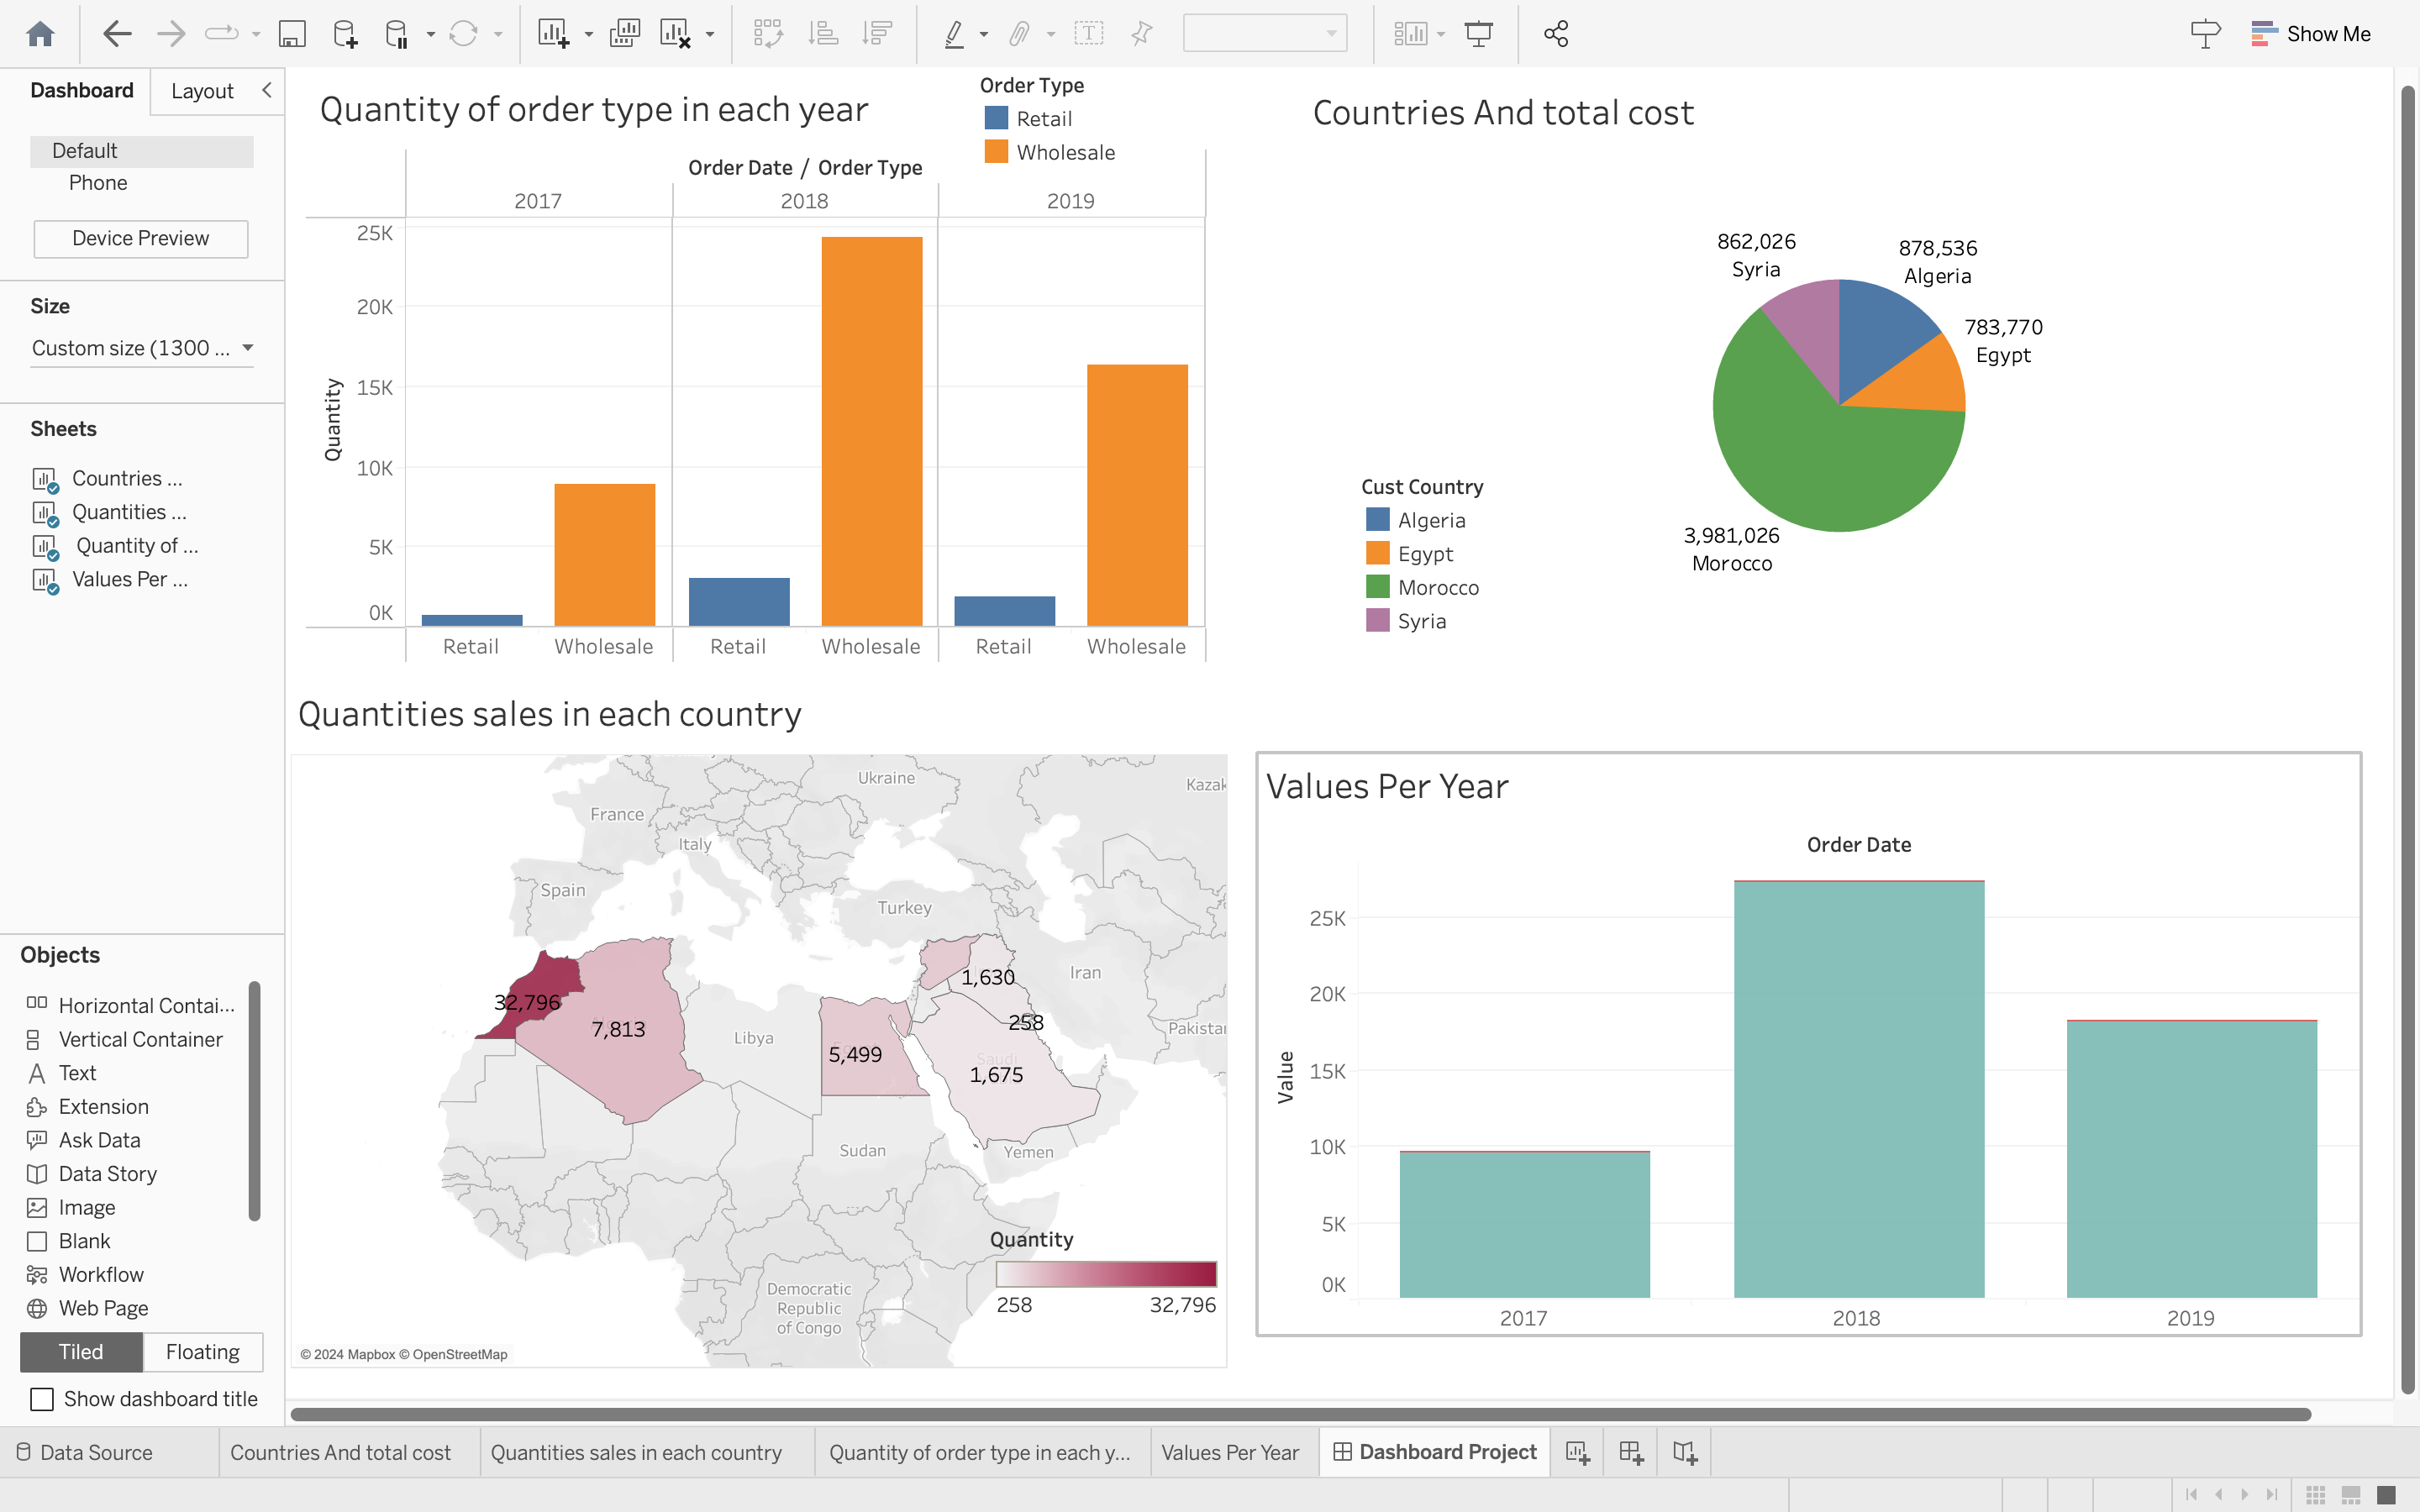

What the dashboard file says about the page in this screenshot:
{"tool":"tableau","page":{"name":"Dashboard Project","canvas":[1300,800],"ordinal":0},"visuals":[{"type":"legend","title":" Quantity of order type in each year  ","param":"[federated.0olghb11hfdxsm1aif1ay1tp6ts5].[none:OrderType:nk]","box":[413,10,140,59]},{"type":"worksheet","title":" Quantity of order type in each year  ","mark":"Automatic","rows":["Quantity"],"cols":["OrderDate","OrderType"],"box":[12,14,536,349]},{"type":"worksheet","title":"Countries And total cost ","mark":"Pie","box":[607,16,635,344]},{"type":"legend","title":"Countries And total cost ","param":"[federated.0olghb11hfdxsm1aif1ay1tp6ts5].[none:CustCountry:nk]","box":[640,249,140,101]},{"type":"worksheet","title":"Quantities sales in each country ","mark":"Automatic","box":[3,374,558,409]},{"type":"worksheet","title":"Values Per Year","mark":"Bar","cols":["OrderDate"],"box":[579,417,655,345]},{"type":"legend","title":"Quantities sales in each country ","param":"[federated.0olghb11hfdxsm1aif1ay1tp6ts5].[sum:Quantity:qk]","box":[419,697,140,76]}]}

Visuals, with their boxes on the page's 1300x800 design canvas (x1, y1, x2, y2). These are canvas units, not pixel positions in the 2420x1512 screenshot, which may show the page scaled, cropped or inside an application window:
" Quantity of order type in each year  " legend: (413,10,553,69)
" Quantity of order type in each year  " worksheet: (12,14,548,363)
"Countries And total cost " worksheet (Pie marks): (607,16,1242,360)
"Countries And total cost " legend: (640,249,780,350)
"Quantities sales in each country " worksheet: (3,374,561,783)
"Values Per Year" worksheet (Bar marks): (579,417,1234,762)
"Quantities sales in each country " legend: (419,697,559,773)
